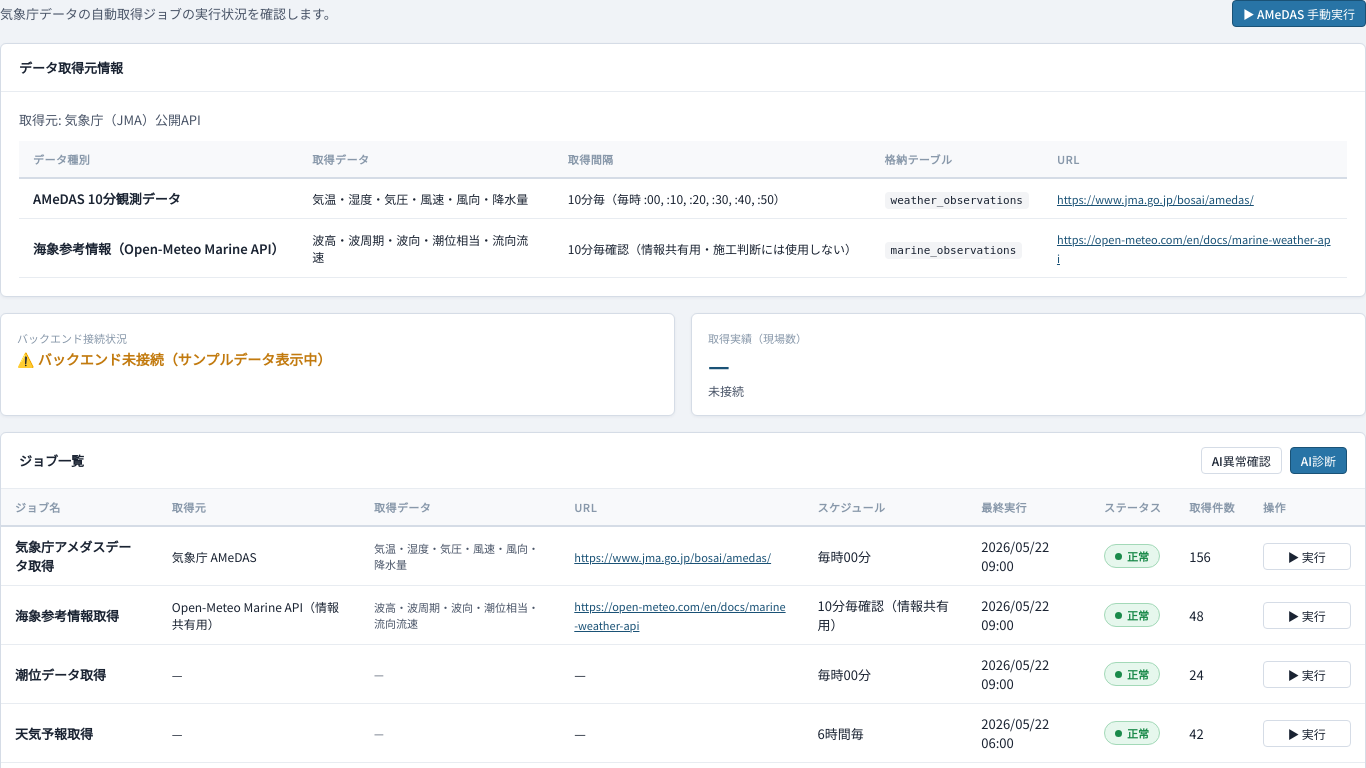
Test: EtlPage — backend fetch path › handleManualRun shows an inline error when the run request fails
Click the button "▶ AMeDAS 手動実行" at (1299,14), box [1232,0,1365,27]
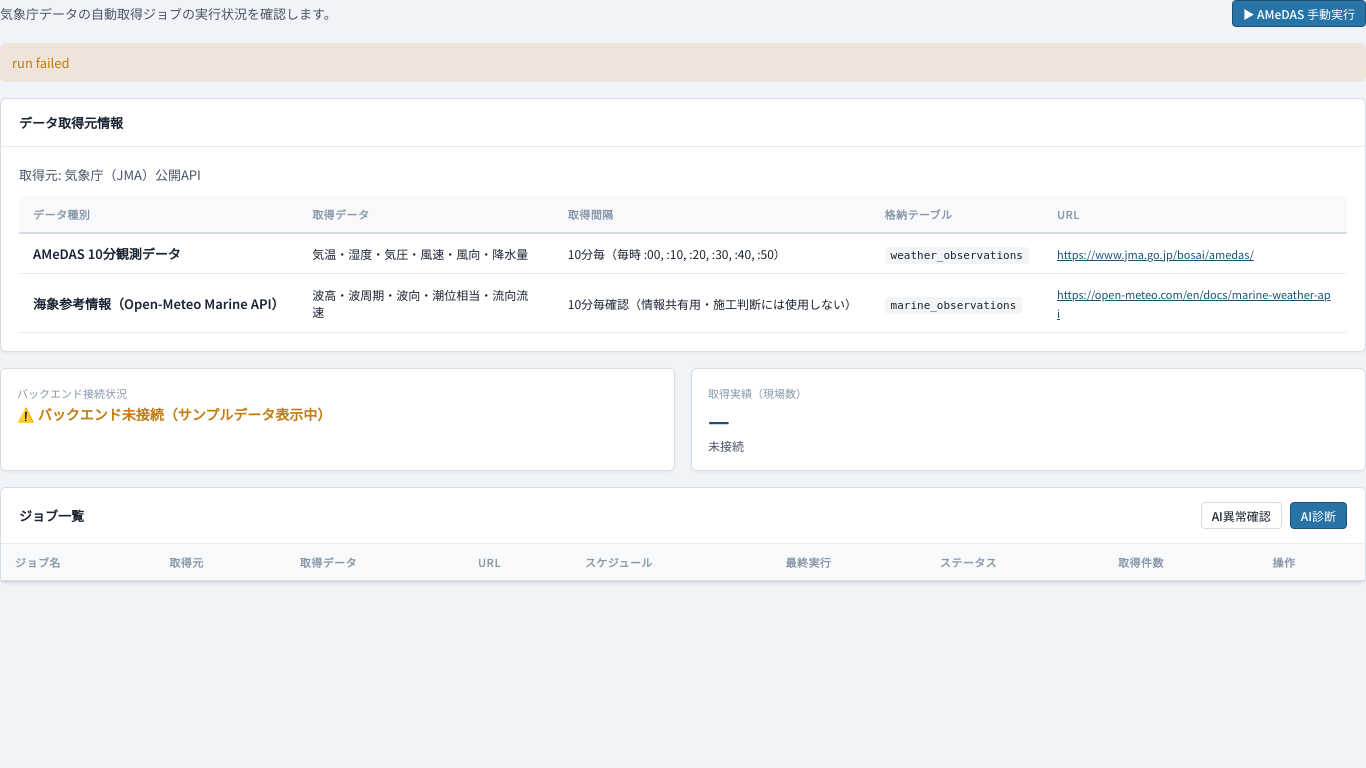
Now the text "run failed" is shown, box [0,43,1365,82]
